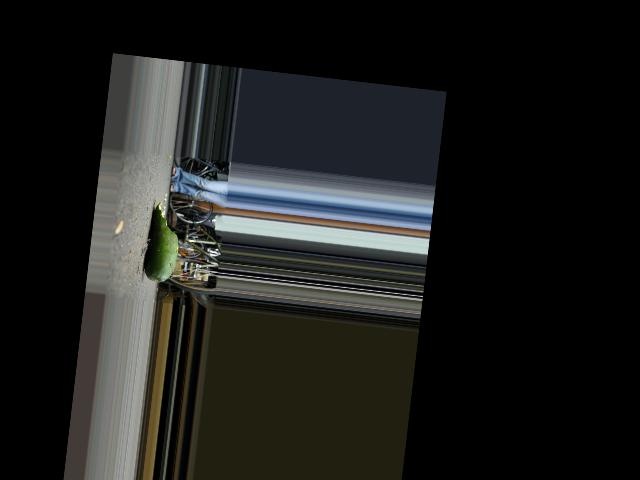cucumber: (143, 200, 183, 283)
